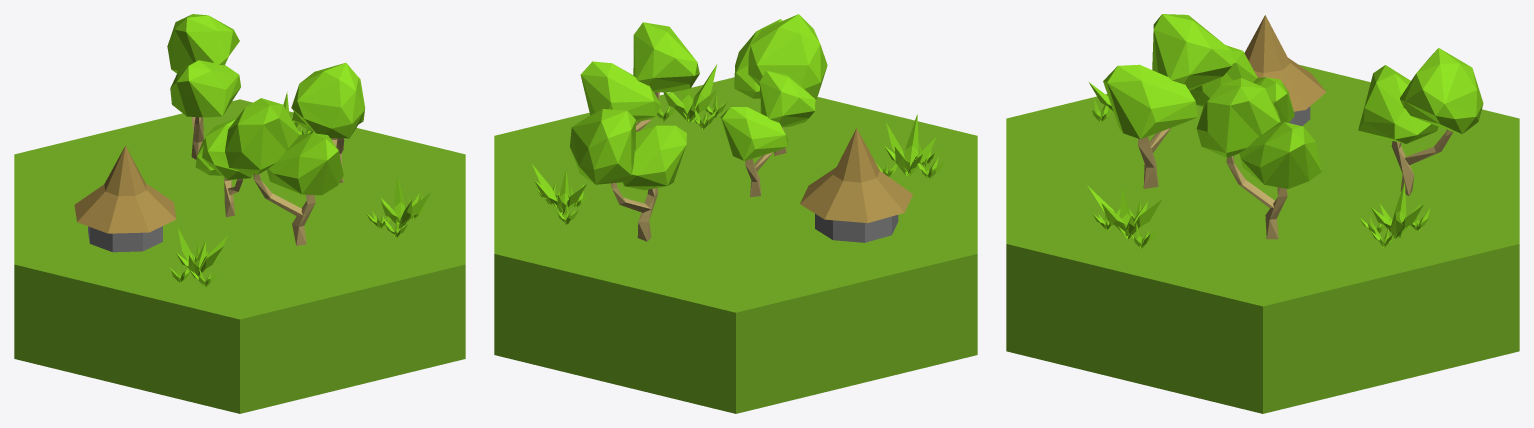
File: Casas_Selva_5.fbx
3 views of the same model, side by side, from view 1: azimuth 30°, elevation 25°; view 2: azimuth 150°, elevation 25°; view 3: azimuth 270°, elevation 25° (orthographic). The views are drawn at different scales.
Visible parts, largest first — view 1: Casas_Selva_5; view 2: Casas_Selva_5; view 3: Casas_Selva_5.
Boxes of the visible parts, x1=… form: Casas_Selva_5: x1=14, y1=14, x2=465, y2=413; Casas_Selva_5: x1=494, y1=14, x2=977, y2=413; Casas_Selva_5: x1=1006, y1=14, x2=1519, y2=413.
Size of the model in its own units: 200 by 99.25 by 173.
